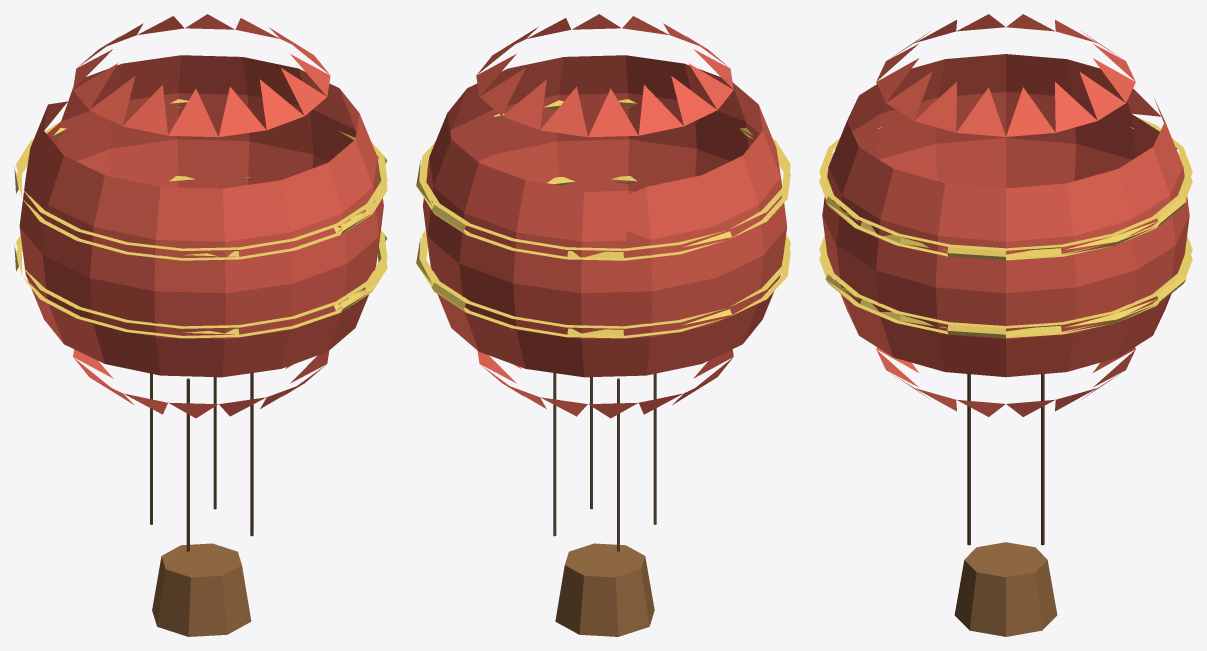
Rendered from balloon.glb.
3 renders of one model, left to right at view 1: azimuth 30°, elevation 25°; view 2: azimuth 150°, elevation 25°; view 3: azimuth 270°, elevation 25°, orthographic.
Visible parts, largest first — view 1: envelope, basket, band3.95, band3.25, rope-0.3-0.3, rope0.3-0.3; view 2: envelope, basket, band3.95, band3.25, rope0.30.3, rope-0.3-0.3; view 3: envelope, basket, band3.95, band3.25, rope0.3-0.3, rope0.30.3.
Boxes of the visible parts, x1,y1,x2,y2 form: envelope: (19,14,383,418); basket: (152,543,251,636); band3.95: (14,99,387,260); band3.25: (14,176,387,338); rope-0.3-0.3: (186,378,189,551); rope0.3-0.3: (250,373,253,536); envelope: (423,14,787,418); basket: (555,543,654,636); band3.95: (416,99,790,260); band3.25: (416,176,790,338); rope0.30.3: (553,373,556,536); rope-0.3-0.3: (653,373,656,524); envelope: (822,14,1189,416); basket: (954,542,1057,636); band3.95: (819,117,1192,260); band3.25: (819,235,1192,338); rope0.3-0.3: (967,374,970,545); rope0.30.3: (1041,374,1044,545).
Bounding box in the file's own units: 3.07 × 5.09 × 3.05.
